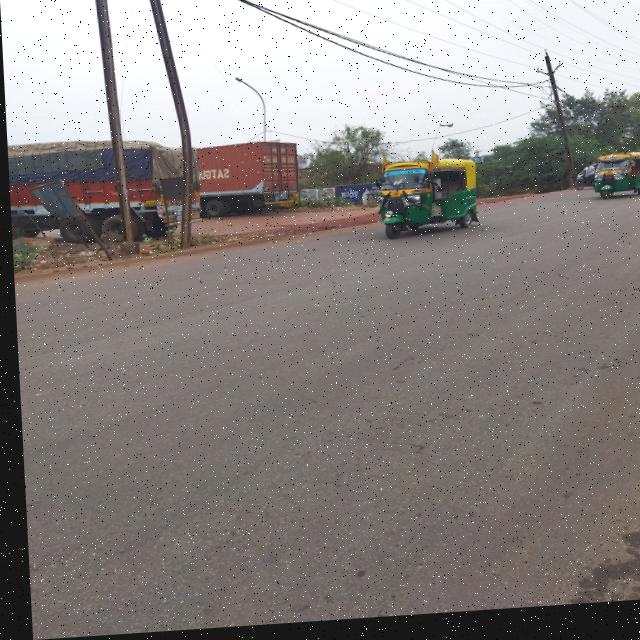plate: (603, 180, 610, 184)
